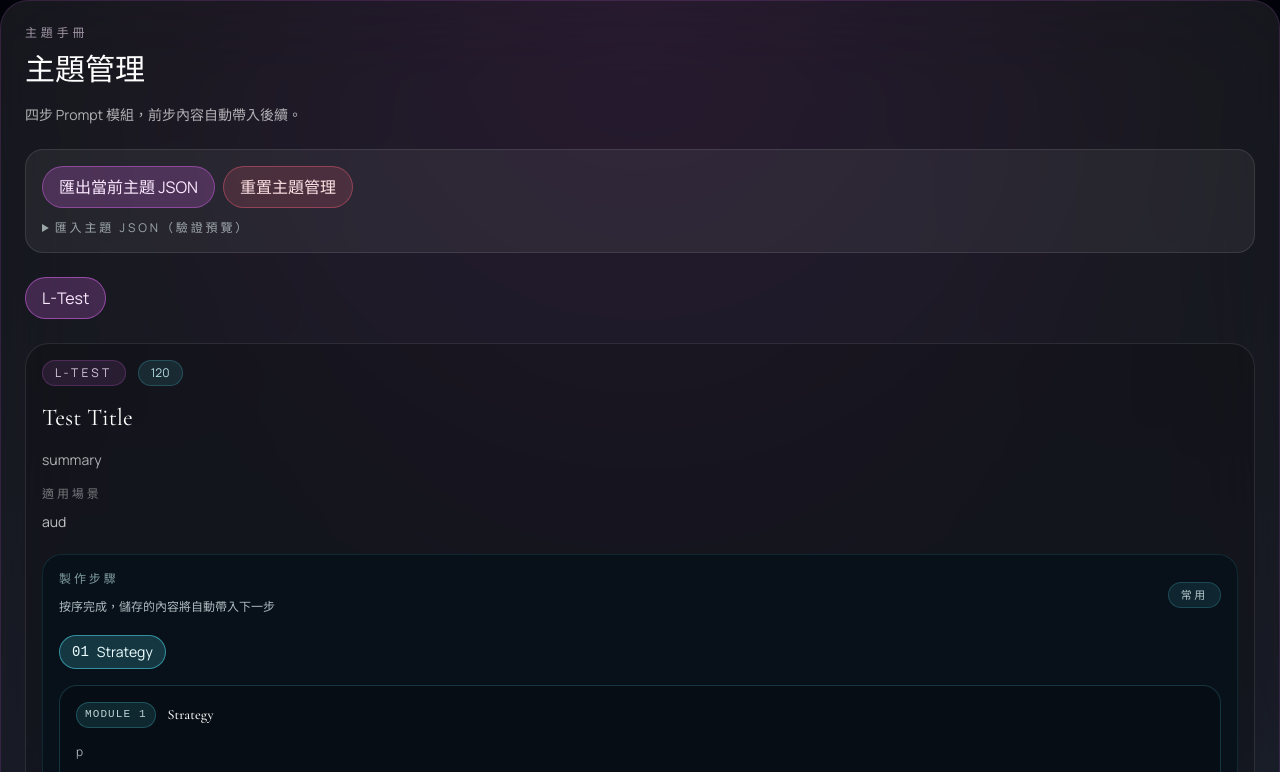
Test: ThemeProgramPanel — 匯出 / 匯入工具列 › 點擊「驗證」空字串 → 顯示「請先貼上 JSON」錯誤
# 預設 details 是關閉的,需先點開
Click the heading "匯入主題 JSON（驗證預覽）": {"x": 152, "y": 228} 55,219 -> 250,236
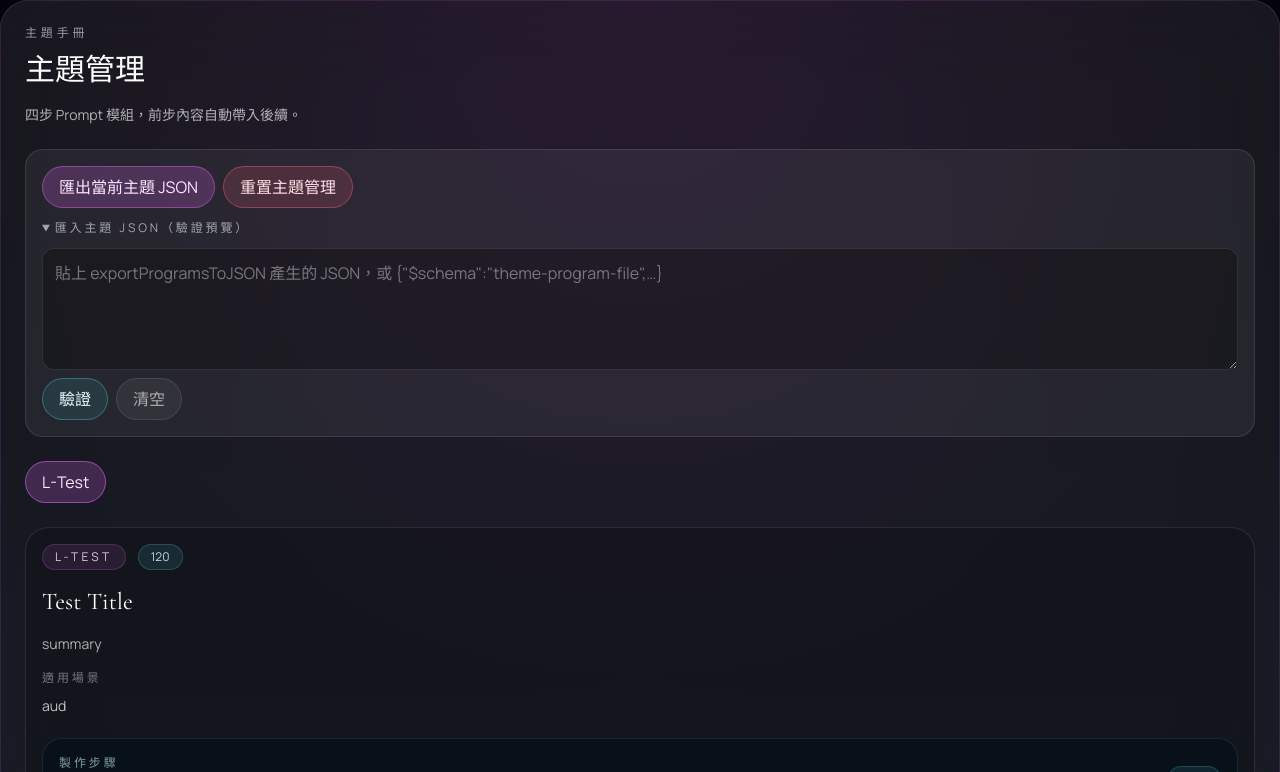
Click the button with test id "tpp-import-validate": {"x": 75, "y": 399} 42,378 -> 108,420
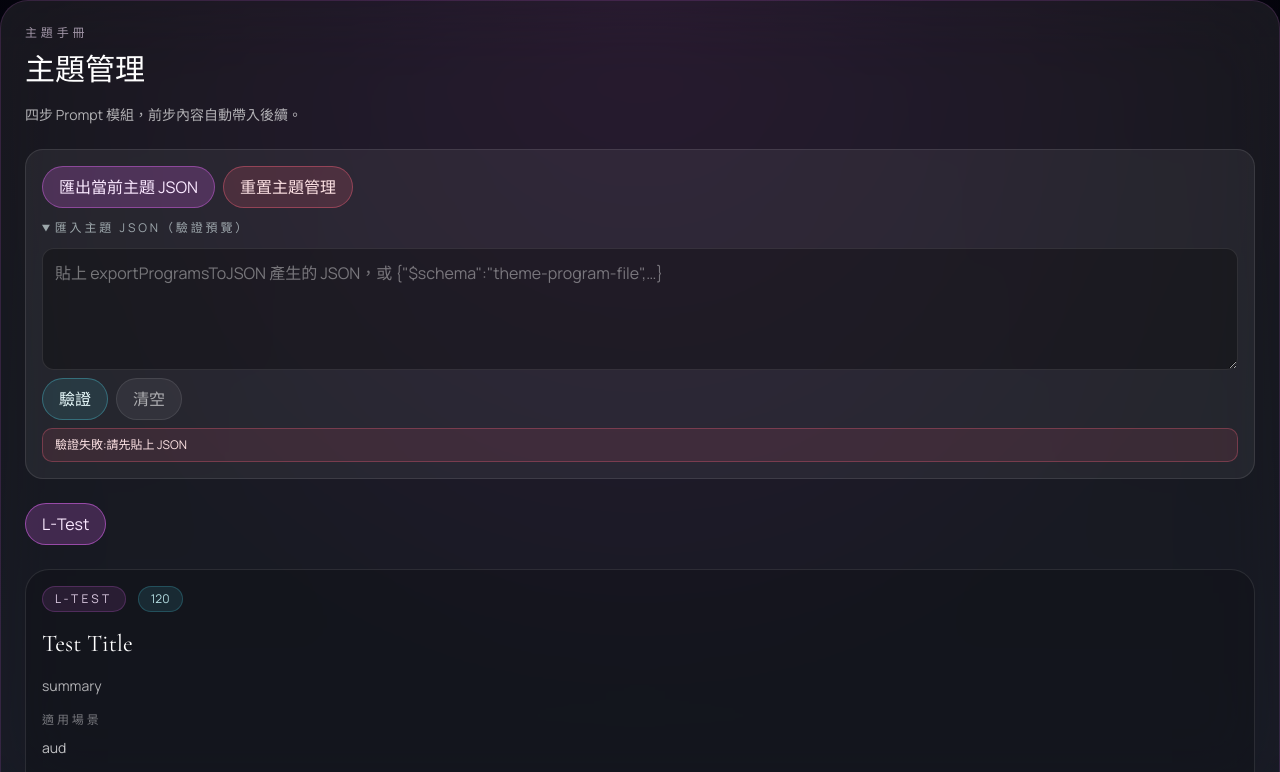
Expected: the text with test id "tpp-import-error" shows "請先貼上 JSON", 107,436 -> 187,453
